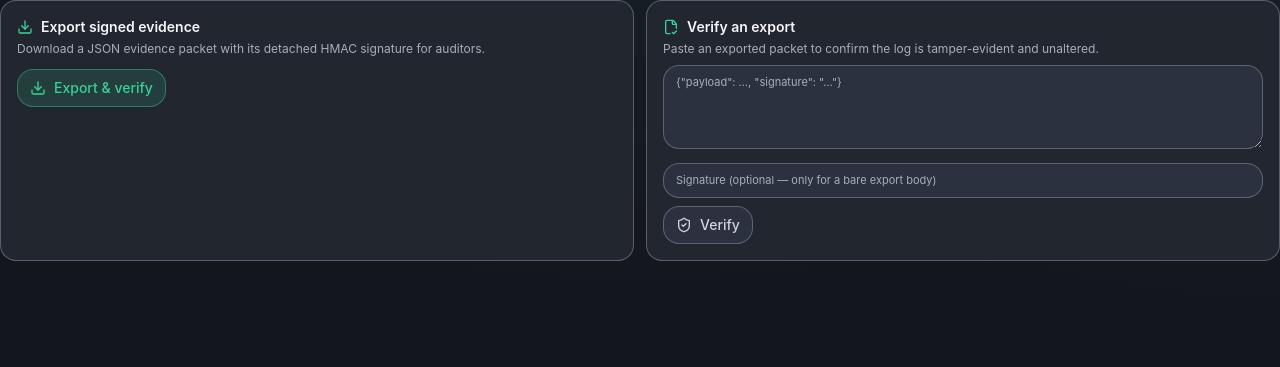
Scenario: AuditEvidencePanel › exports a signed packet and verifies the fresh round-trip as PASS
Step 1. Click the button "Export & verify" → (91, 88), box [17,69,166,107]
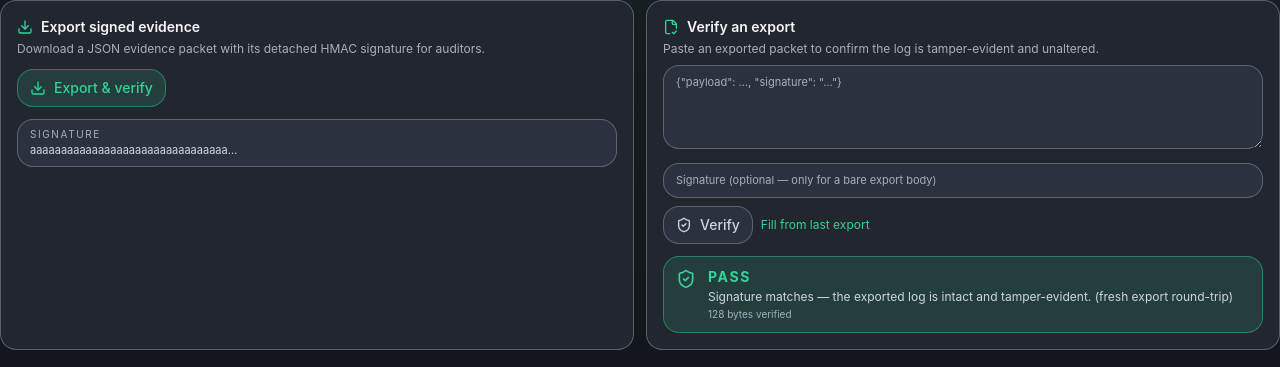
Result: the element with test id "audit-verify-result" shows "PASS" at [708,268,751,284]
